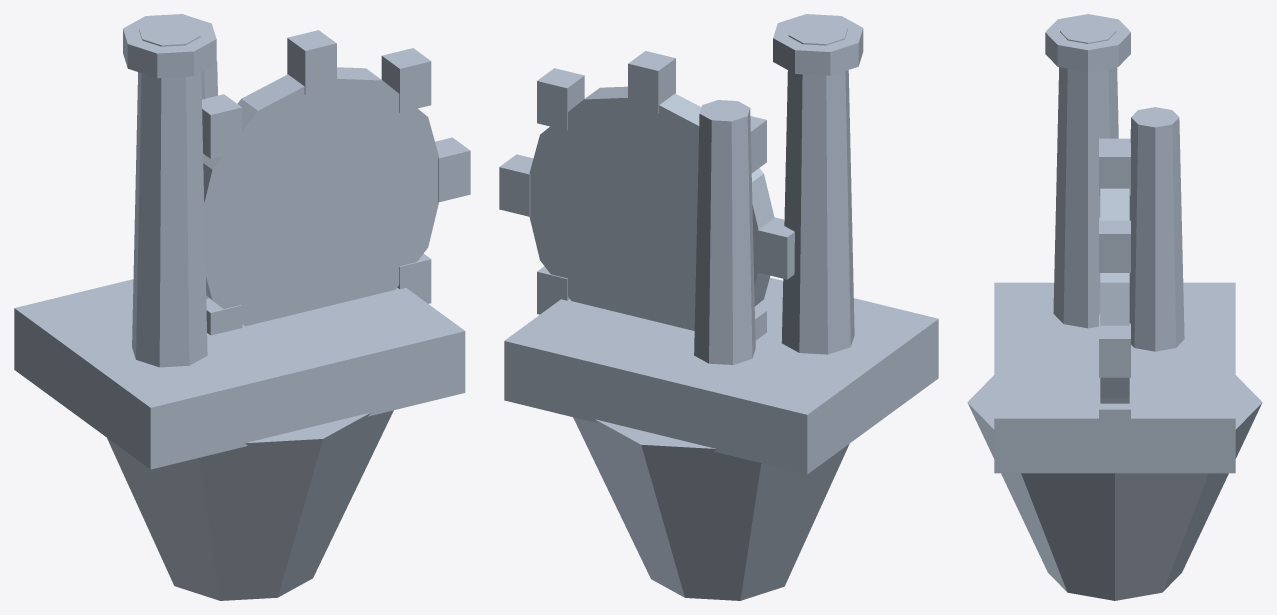
Rendered from sil_w2.glb.
3 renders of one model, left to right at view 1: azimuth 30°, elevation 25°; view 2: azimuth 150°, elevation 25°; view 3: azimuth 270°, elevation 25°, orthographic. The views are drawn at different scales.
Parts seen in each view (by area): view 1: SilW2; view 2: SilW2; view 3: SilW2.
Boxes of the visible parts, bbox=[...] form: SilW2: bbox=[14, 14, 470, 600]; SilW2: bbox=[499, 14, 938, 600]; SilW2: bbox=[967, 14, 1262, 600].
Size of the model in its own units: 28.9 by 41.5 by 22.
